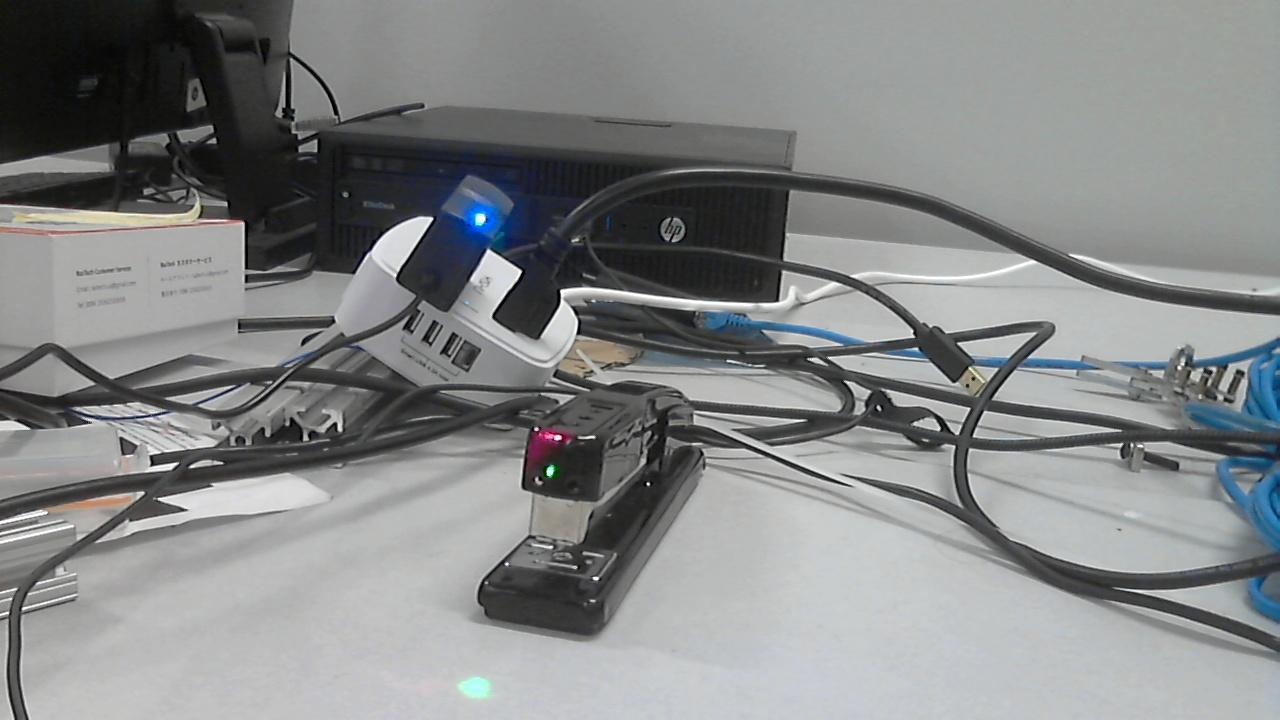object stapler - material metal - color black - Pdfname fduiadew: (518, 422, 579, 483)
